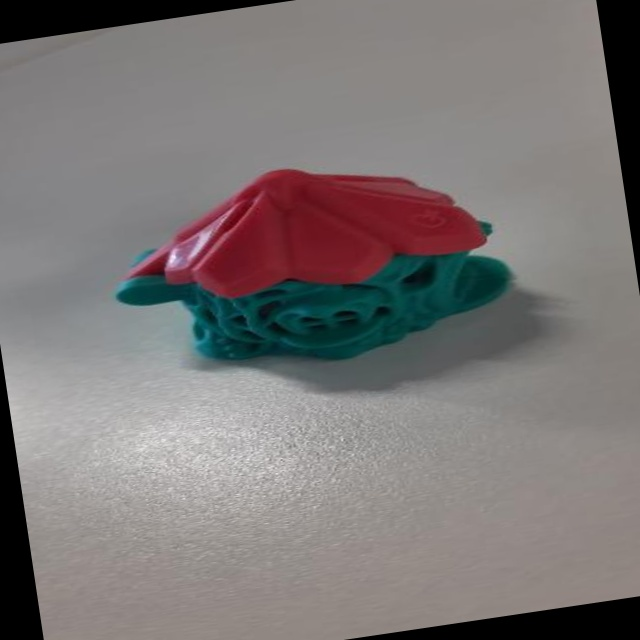House: (83, 121, 537, 397)
